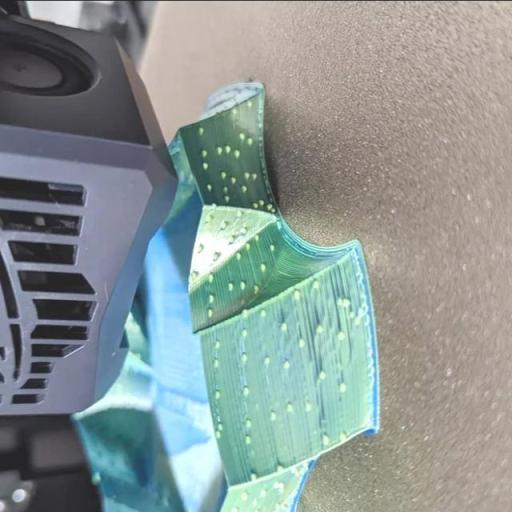blobs: (334, 290, 350, 312), (270, 479, 287, 495), (316, 366, 332, 382), (246, 469, 262, 483), (224, 279, 238, 295), (210, 388, 224, 402), (284, 398, 295, 415), (268, 405, 278, 422), (334, 328, 347, 341), (338, 379, 351, 392), (238, 350, 252, 362), (278, 318, 290, 332), (320, 430, 332, 444), (213, 420, 228, 431), (240, 323, 251, 338), (205, 304, 215, 320), (214, 142, 224, 158), (242, 432, 253, 446), (281, 356, 292, 370), (296, 334, 307, 348), (239, 306, 254, 316), (268, 239, 278, 254), (259, 486, 271, 498), (258, 307, 271, 318), (188, 268, 199, 281), (309, 277, 320, 290), (238, 490, 252, 500), (234, 248, 244, 262), (291, 286, 301, 300), (340, 430, 350, 444), (236, 128, 246, 142), (199, 146, 210, 158), (231, 105, 243, 116), (250, 496, 260, 509), (244, 417, 254, 430), (210, 249, 220, 262), (238, 279, 248, 292), (304, 399, 314, 412), (275, 460, 284, 474), (316, 320, 325, 334), (225, 234, 237, 244), (242, 240, 252, 252), (250, 232, 260, 244), (258, 261, 268, 273), (225, 189, 233, 204), (242, 169, 252, 181), (244, 136, 254, 148), (212, 338, 222, 349), (218, 218, 228, 229), (202, 183, 213, 193), (228, 175, 238, 186), (263, 352, 272, 364), (207, 292, 217, 302), (220, 182, 230, 192), (266, 201, 275, 212), (208, 270, 216, 282), (250, 169, 258, 181), (242, 386, 251, 396), (196, 242, 205, 252), (252, 283, 262, 292), (256, 196, 265, 206), (224, 142, 232, 153), (218, 169, 226, 180), (206, 213, 215, 222), (249, 201, 258, 210), (202, 159, 210, 169), (196, 122, 204, 132), (240, 182, 247, 192), (234, 148, 240, 158), (212, 359, 220, 365)
